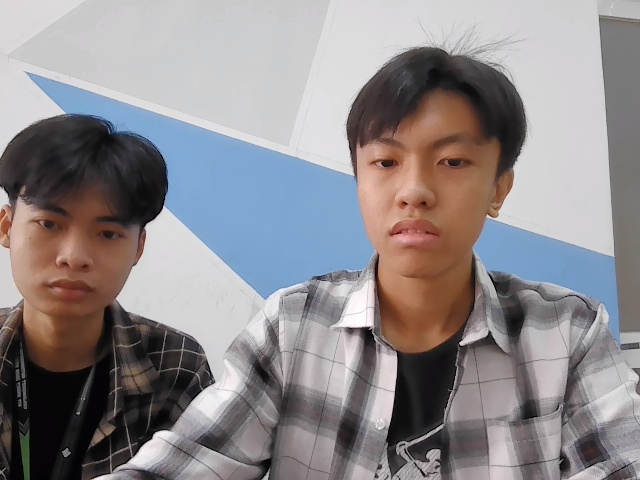human: (344, 33, 529, 278), (1, 109, 174, 325)
